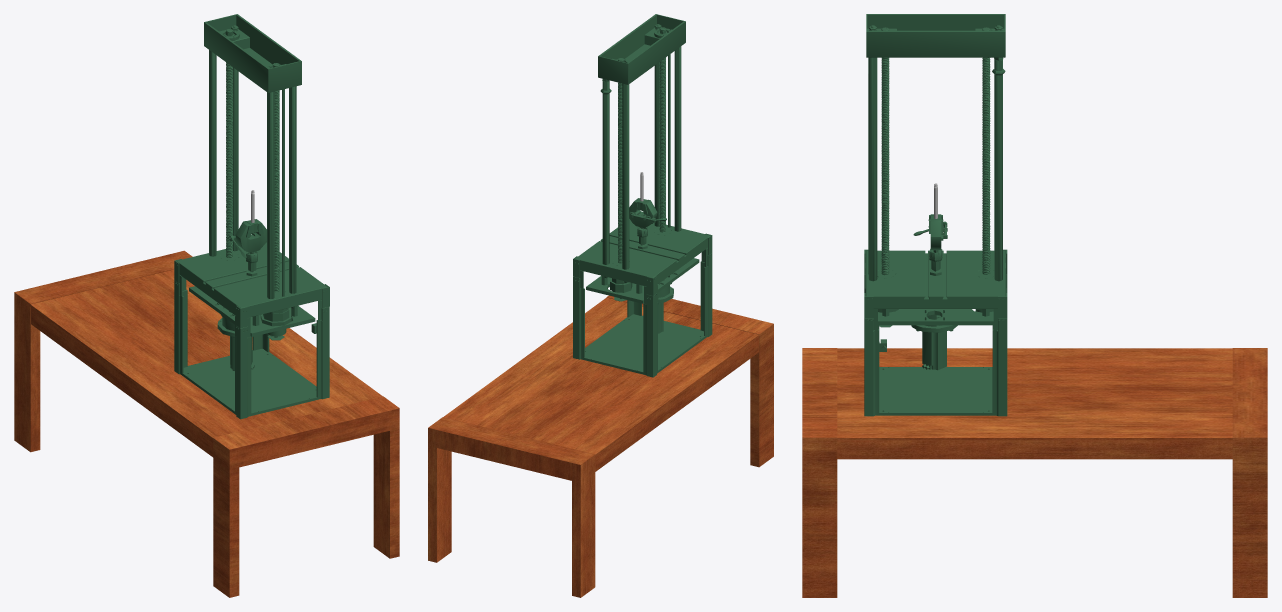
3 views of the same model, side by side, from view 1: azimuth 30°, elevation 25°; view 2: azimuth 150°, elevation 25°; view 3: azimuth 270°, elevation 25° (orthographic). The views are drawn at different scales.
Visible parts, largest first — view 1: Box001, main; view 2: Box001, main; view 3: Box001, main.
Boxes of the visible parts, <box> form: Box001: <box>14,250,399,597</box>; main: <box>174,14,329,419</box>; Box001: <box>428,295,773,597</box>; main: <box>573,14,712,377</box>; Box001: <box>802,348,1267,597</box>; main: <box>864,14,1007,416</box>.
Size of the model in its own units: 1.37 by 3.77 by 3.
3 materials, 1 textured.
